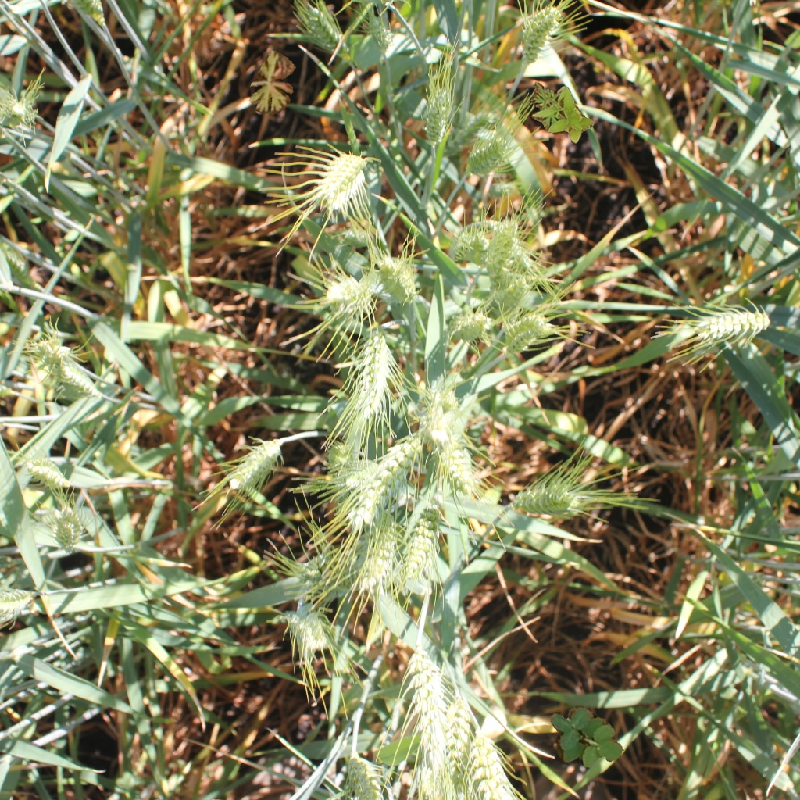spikelet: (339, 432, 423, 530), (399, 634, 454, 767), (344, 321, 400, 425), (25, 329, 102, 404), (463, 721, 532, 799), (397, 493, 450, 593), (308, 144, 380, 215), (681, 300, 777, 349), (507, 470, 594, 524), (352, 516, 407, 596), (430, 426, 489, 500), (220, 432, 287, 495), (290, 543, 358, 602), (435, 690, 478, 780), (278, 597, 340, 656), (495, 302, 560, 358), (316, 267, 380, 322), (482, 212, 535, 275), (334, 746, 391, 800), (512, 1, 564, 60), (373, 249, 425, 306), (417, 80, 458, 149), (461, 127, 514, 180), (297, 1, 348, 56), (18, 448, 76, 493), (443, 218, 495, 268), (444, 302, 499, 348), (47, 501, 92, 555), (1, 80, 43, 132), (1, 576, 40, 629), (360, 1, 392, 52)
weed: (535, 689, 630, 787), (515, 68, 600, 155), (241, 48, 309, 124)
